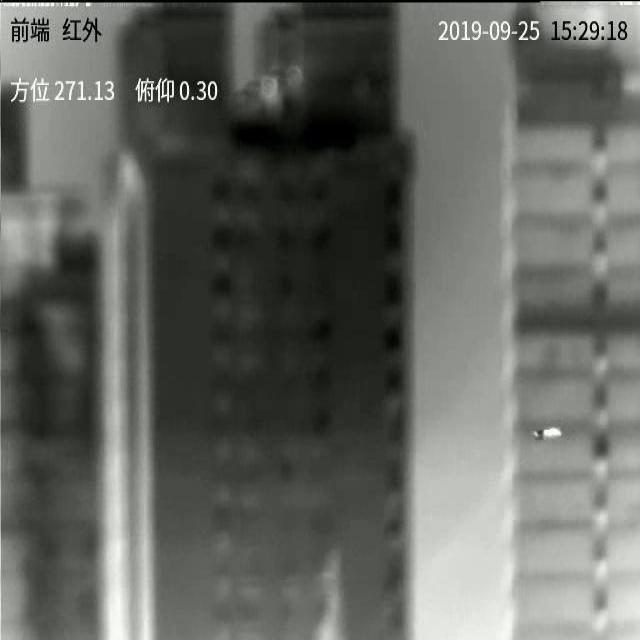drone: (532, 429, 562, 441)
